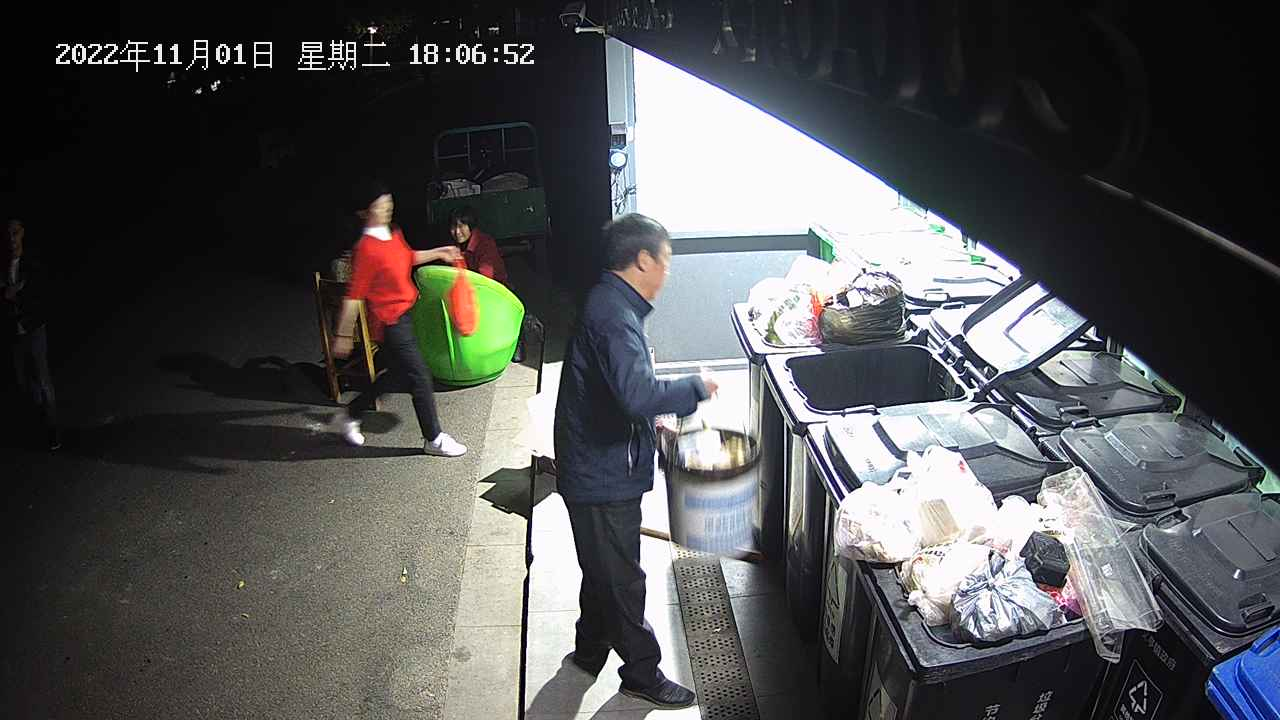garbage-bag: (447, 252, 481, 337)
person: (552, 210, 721, 711), (329, 180, 469, 457), (447, 205, 509, 292)
youtong: (657, 386, 763, 555)
